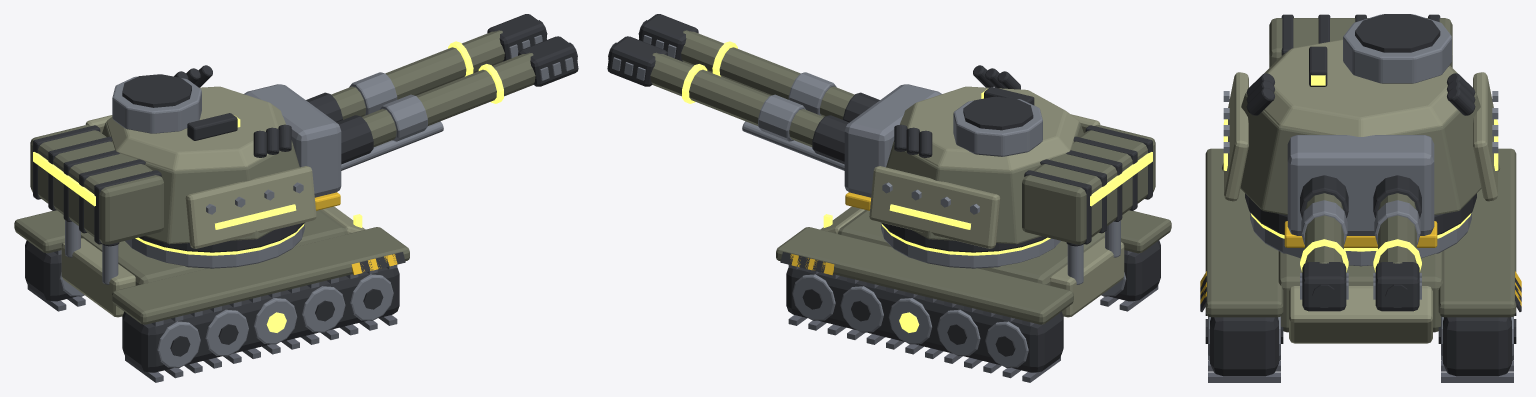
Rendered from torreta_canon.fbx.
3 renders of one model, left to right at view 1: azimuth 30°, elevation 25°; view 2: azimuth 150°, elevation 25°; view 3: azimuth 270°, elevation 25°, orthographic. The views are drawn at different scales.
Parts seen in each view (by area): view 1: Pivot, Base, Barrel; view 2: Pivot, Base, Barrel; view 3: Pivot, Base, Barrel.
Boxes of the visible parts, x1,y1,x2,y2 form: Pivot: (30, 65, 341, 252); Base: (14, 206, 409, 382); Barrel: (306, 14, 578, 170); Pivot: (844, 65, 1155, 252); Base: (776, 206, 1171, 382); Barrel: (607, 14, 879, 170); Pivot: (1222, 14, 1499, 247); Base: (1200, 148, 1521, 382); Barrel: (1300, 175, 1421, 311).
Bounding box in the file's own units: 616 × 257 × 290.
